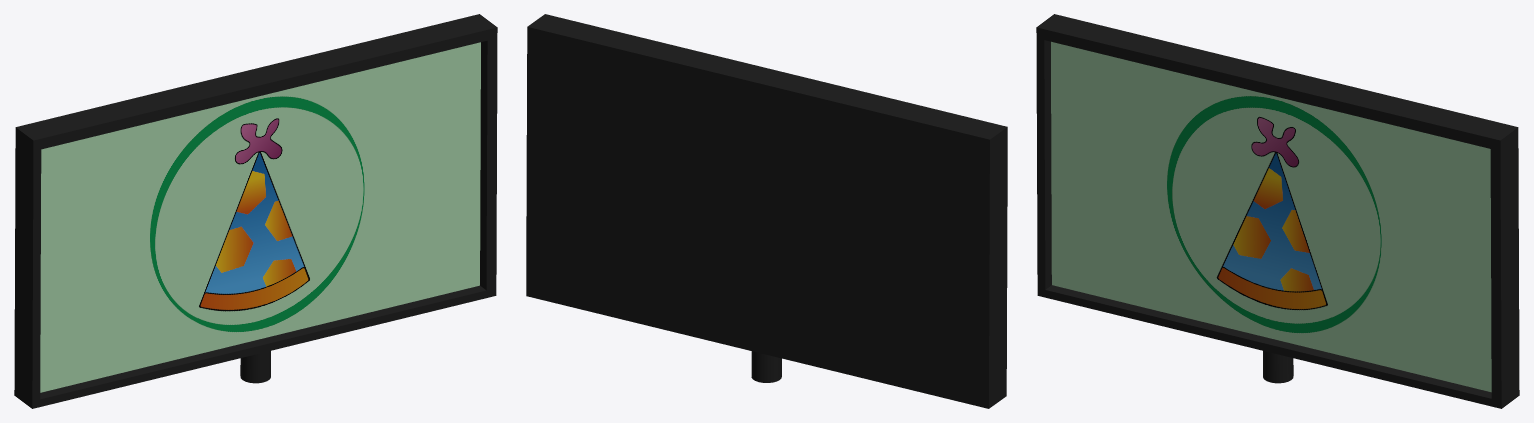
The model's file is SM_TeamRepair.fbx.
3 renders of one model, left to right at view 1: azimuth 30°, elevation 25°; view 2: azimuth 150°, elevation 25°; view 3: azimuth 330°, elevation 25°, orthographic.
Visible parts, largest first — view 1: TeamReapair; view 2: TeamReapair; view 3: TeamReapair.
Part boxes in pixels (bbox=[...]): TeamReapair: bbox=[14, 14, 497, 408]; TeamReapair: bbox=[526, 14, 1007, 408]; TeamReapair: bbox=[1036, 14, 1519, 408].
Bounding box in the file's own units: 1002 × 620 × 71.14.
